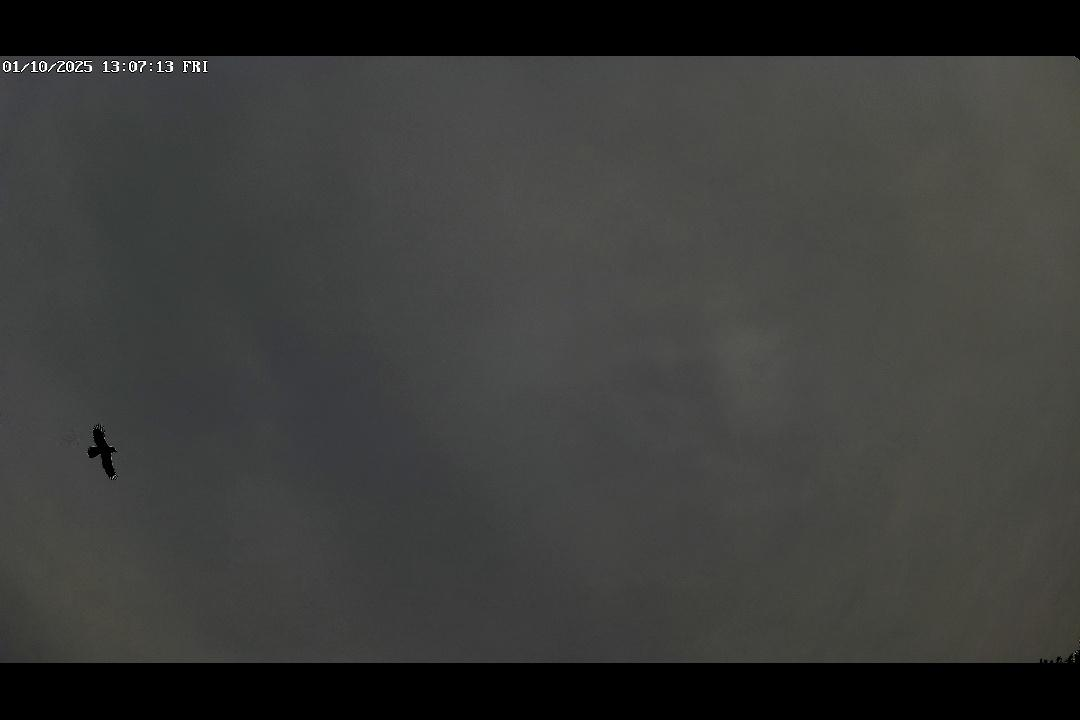WildLife: (57, 410, 151, 501)
